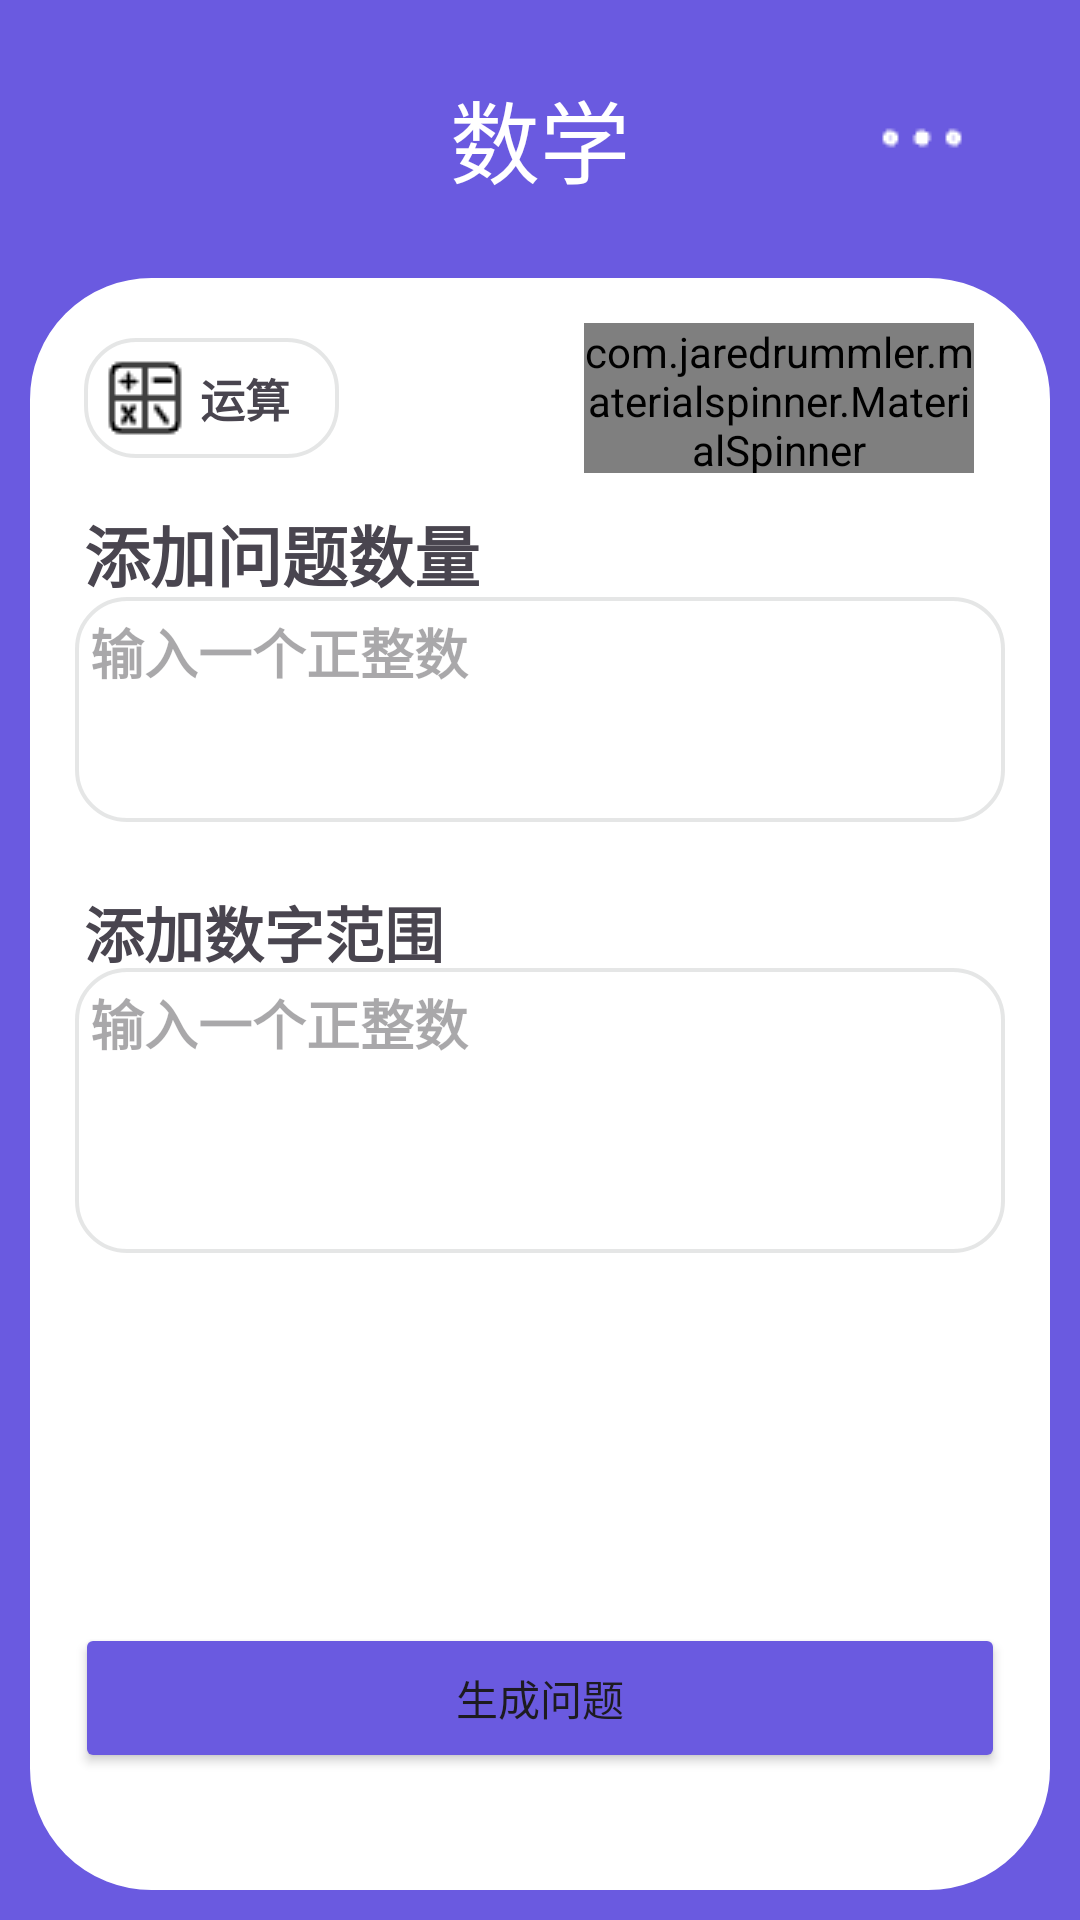

Icon click points for this 1080px x 1920px phone screenshot, format [x,y]:
three dots: [922,138]
